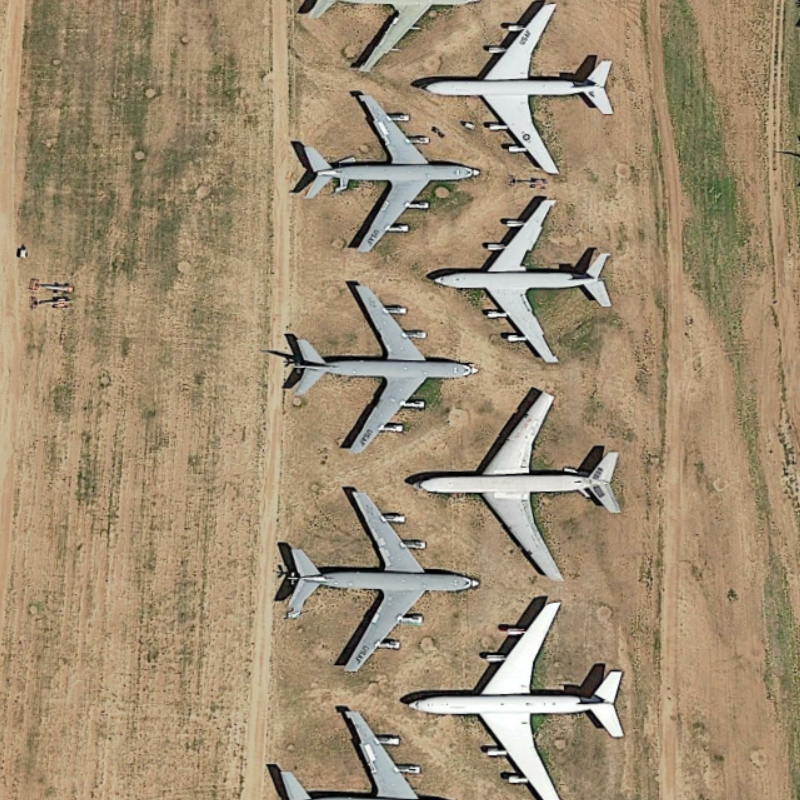A11: (400, 591, 634, 798), (416, 385, 628, 585), (414, 2, 626, 180), (425, 193, 637, 367)
A14: (272, 484, 484, 672), (282, 79, 484, 255), (280, 273, 479, 450)
